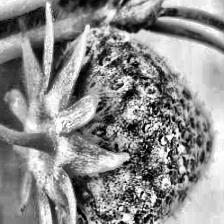Powdery Mildew Fruit: (35, 24, 218, 224)
